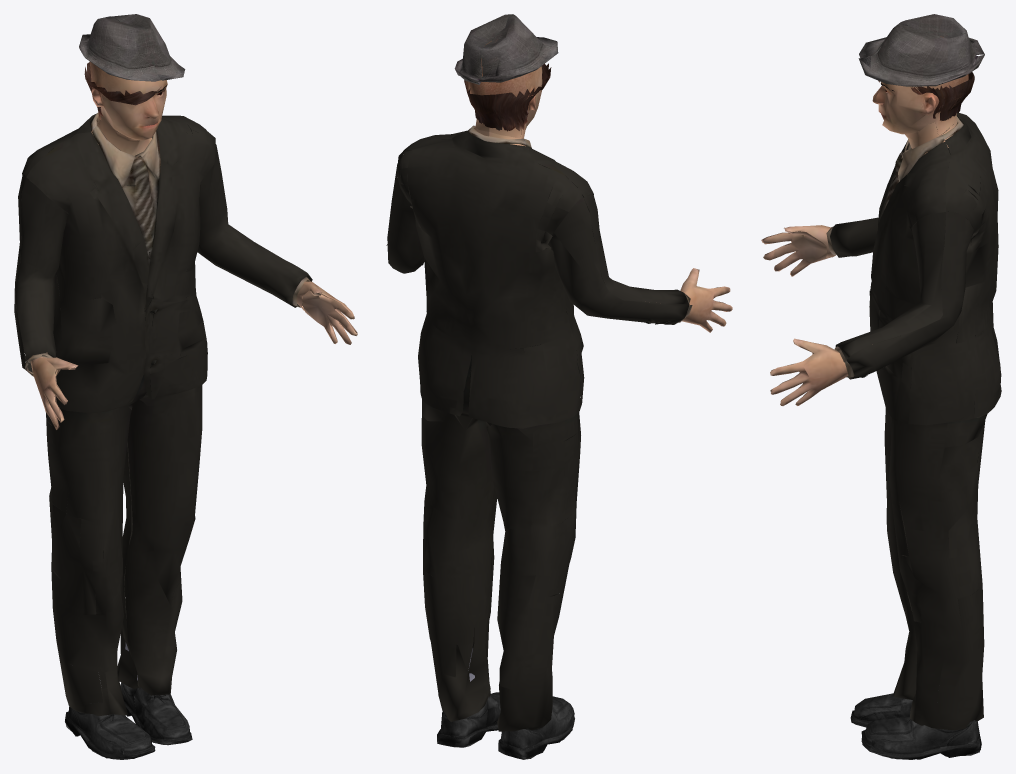
3 renders of one model, left to right at view 1: azimuth 30°, elevation 25°; view 2: azimuth 150°, elevation 25°; view 3: azimuth 270°, elevation 25°, orthographic.
Parts seen in each view (by area): view 1: Modell; view 2: Modell; view 3: Modell.
Part boxes in pixels (box(x1,y1,x2,y2)): Modell: box(14, 14, 357, 759); Modell: box(386, 14, 732, 759); Modell: box(761, 14, 1001, 759).
Size of the model in its own units: 0.7737 by 1.75 by 0.5325.
7 materials, 7 textured.
